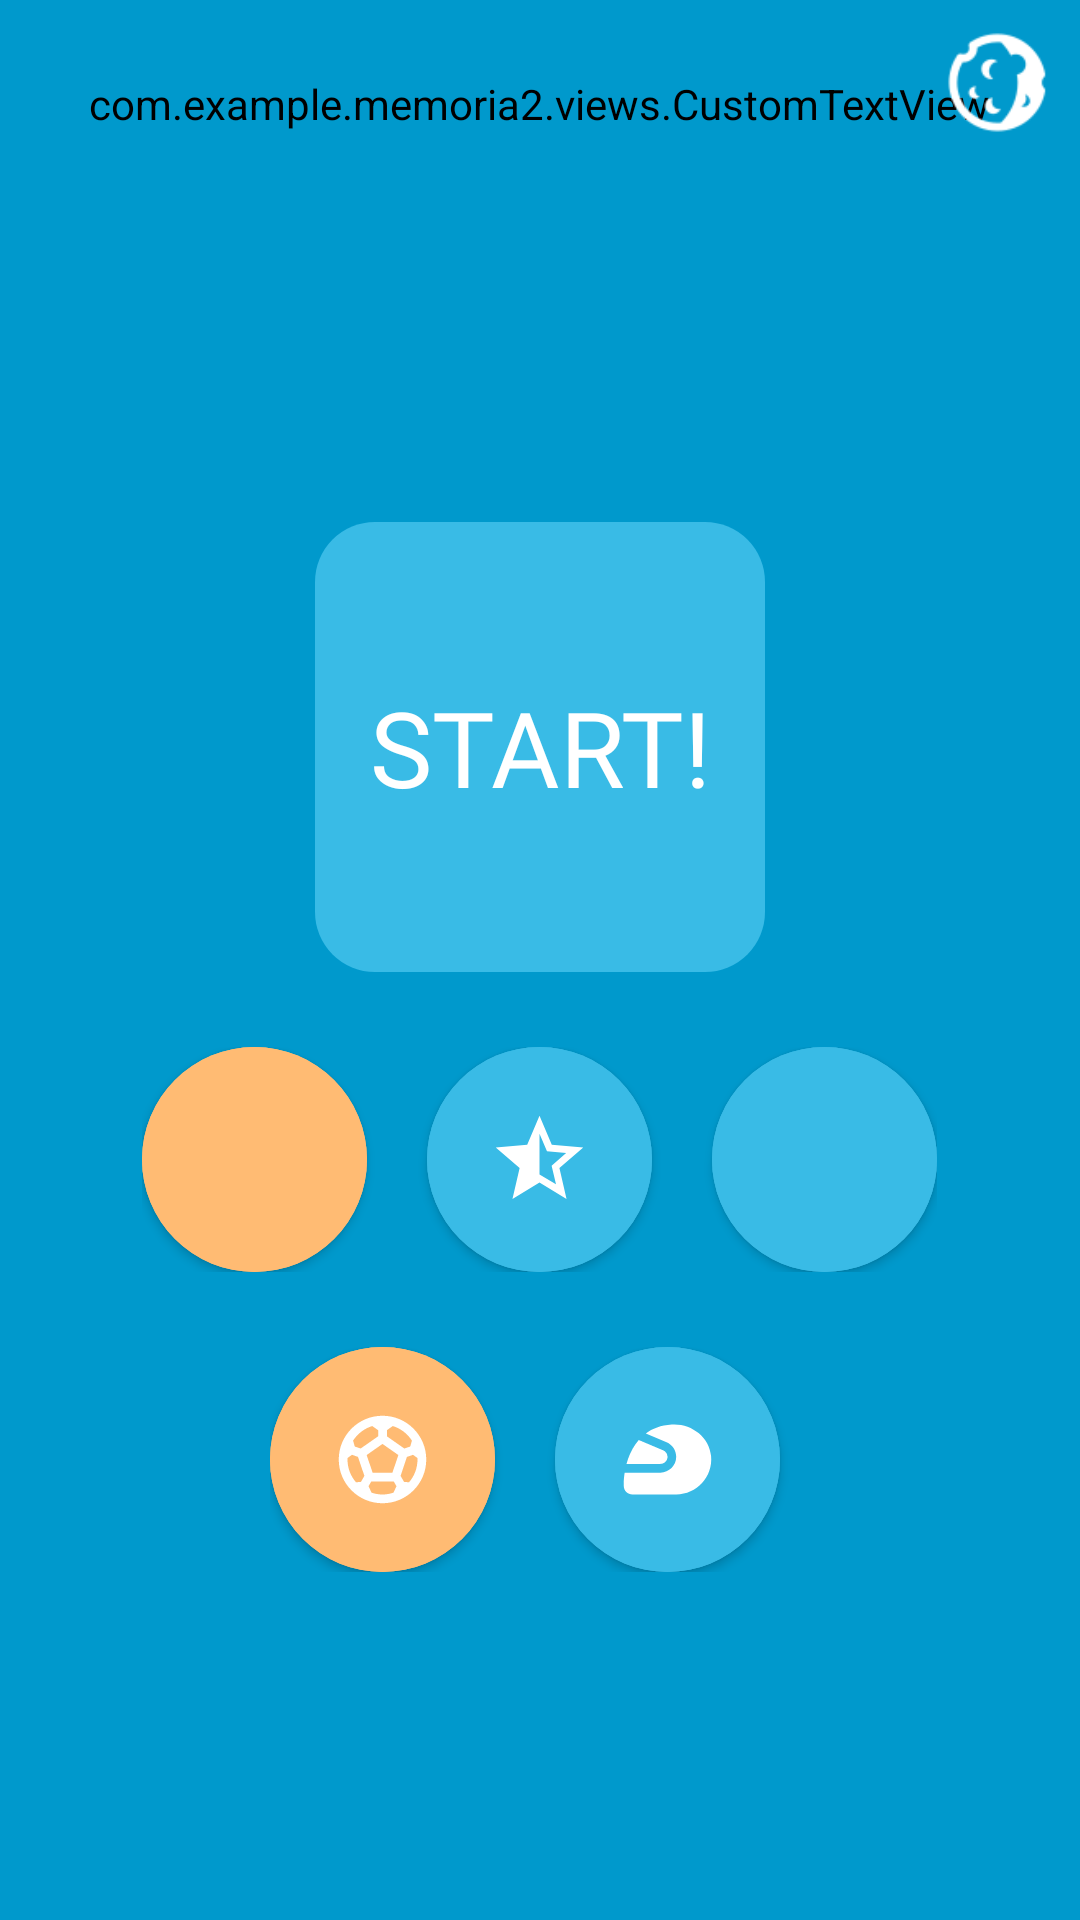

Icons on this 1080px x 1920px Android screen, each with its box as (x1, y1, x2, y2):
medium star: (427, 1047, 652, 1272)
sports motorsports: (555, 1347, 780, 1572)
sports soccer: (270, 1347, 495, 1572)
